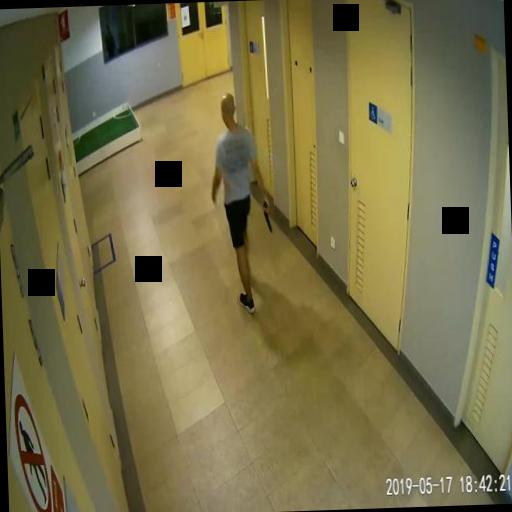Handgun: (260, 198, 270, 230)
